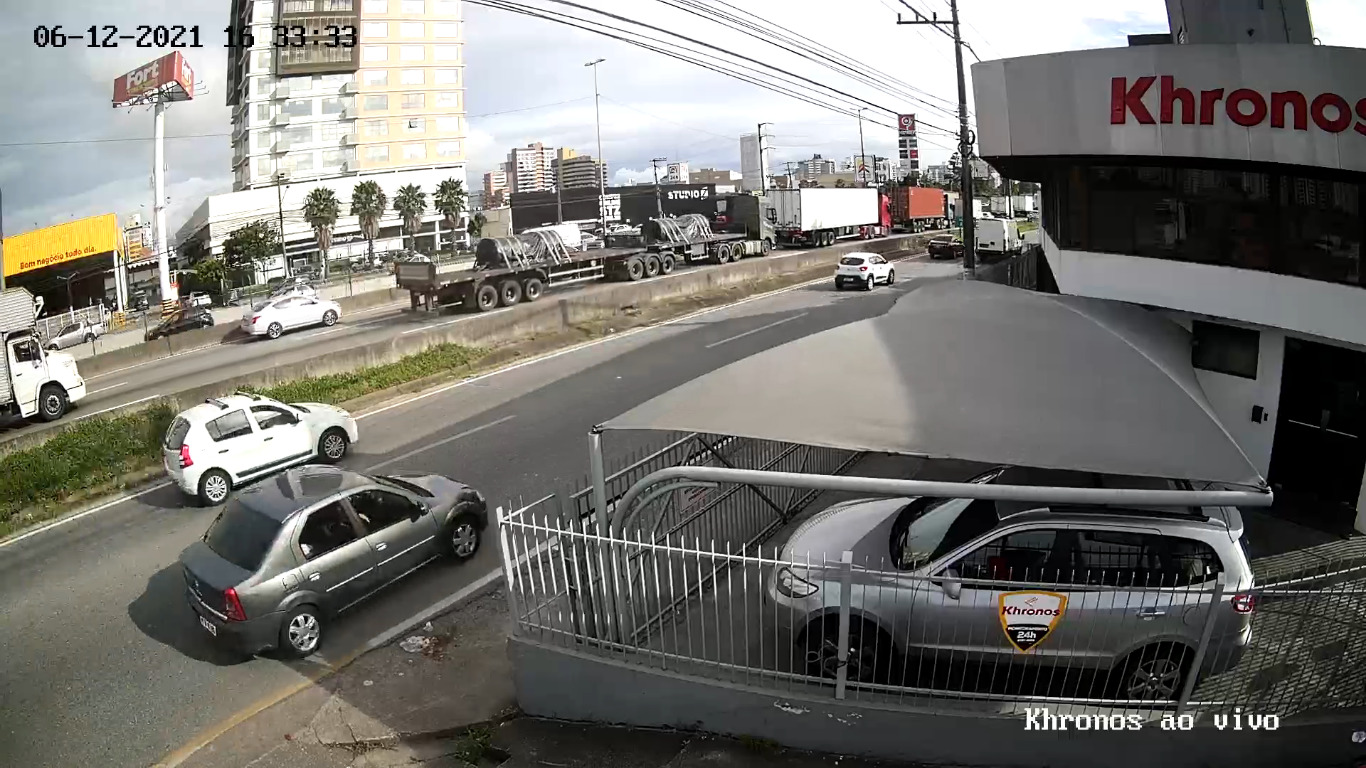car: (182, 462, 490, 656), (167, 392, 360, 505)
